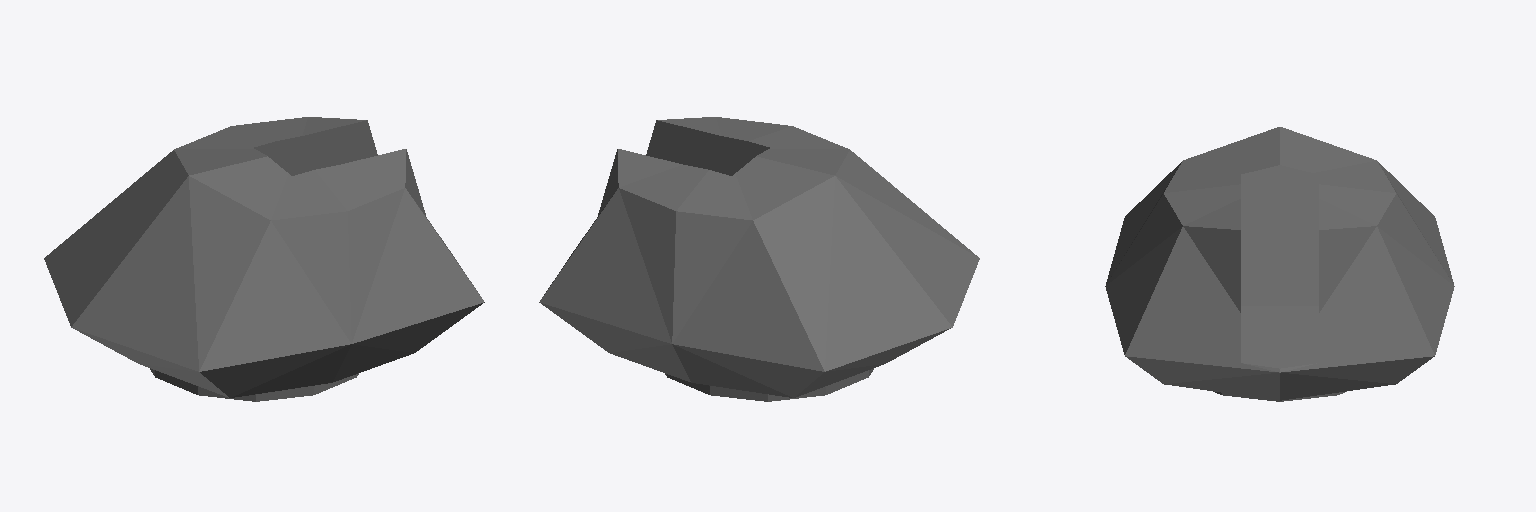
The model's file is Railgun.obj.
The picture shows the model from 3 angles: view 1: azimuth 30°, elevation 25°; view 2: azimuth 150°, elevation 25°; view 3: azimuth 270°, elevation 25°; orthographic projection.
Visible parts, largest first — view 1: Object; view 2: Object; view 3: Object.
Part boxes in pixels (left/top/right/bottom): Object: left=44, top=117, right=484, bottom=401; Object: left=539, top=117, right=979, bottom=401; Object: left=1105, top=127, right=1454, bottom=401.
Size of the model in its own units: 2.2 by 1.1 by 1.8.